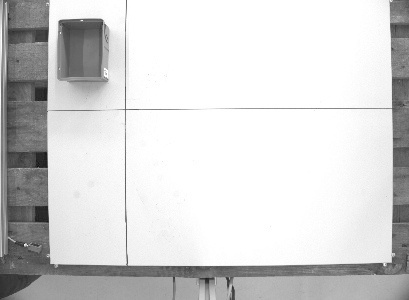klts: (53, 15, 112, 84)
